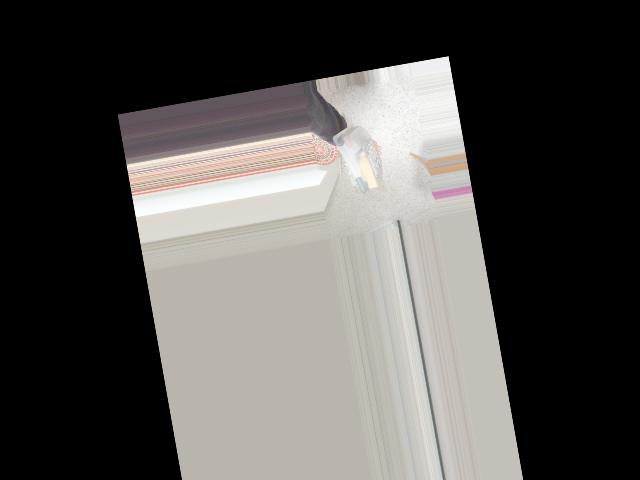cheese: (326, 123, 386, 200)
